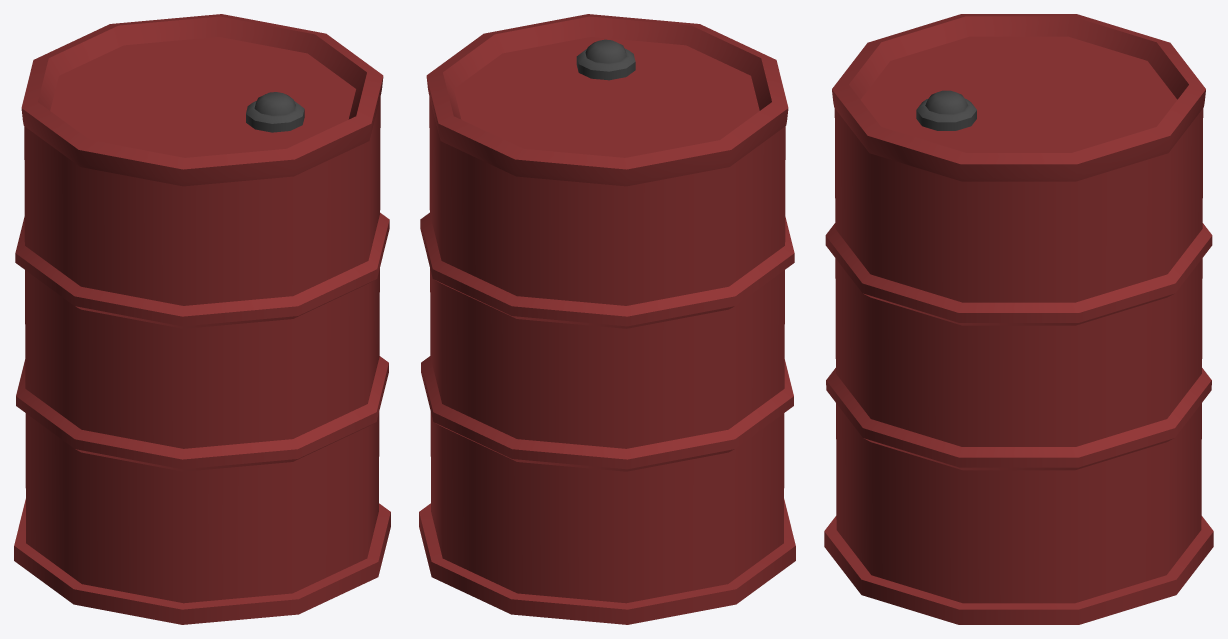
Rendered from MBarrel_1.fbx.
The picture shows the model from 3 angles, left to right: view 1: azimuth 30°, elevation 25°; view 2: azimuth 150°, elevation 25°; view 3: azimuth 270°, elevation 25°; orthographic projection.
Visible parts, largest first — view 1: MBarrel_1; view 2: MBarrel_1; view 3: MBarrel_1.
Boxes of the visible parts, x1,y1,x2,y2 form: MBarrel_1: (14,14,390,624); MBarrel_1: (419,14,795,624); MBarrel_1: (824,14,1213,624).
Bounding box in the file's own units: 0.594 × 0.8333 × 0.6246.
